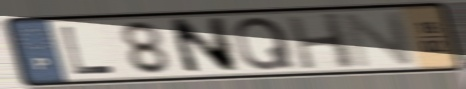8: (119, 19, 172, 76)
H: (284, 11, 360, 71)
L: (58, 25, 117, 76)
N: (339, 9, 418, 69), (165, 15, 241, 76)
Q: (231, 15, 299, 73)
